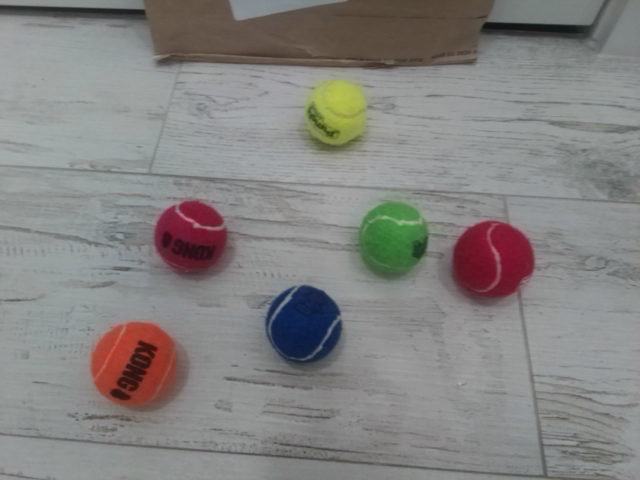blue-ball: (265, 284, 343, 364)
green-ball: (358, 200, 429, 276)
orange-ball: (90, 321, 179, 405)
red-ball: (452, 219, 536, 300), (153, 199, 228, 275)
yellow-ball: (303, 78, 368, 147)
